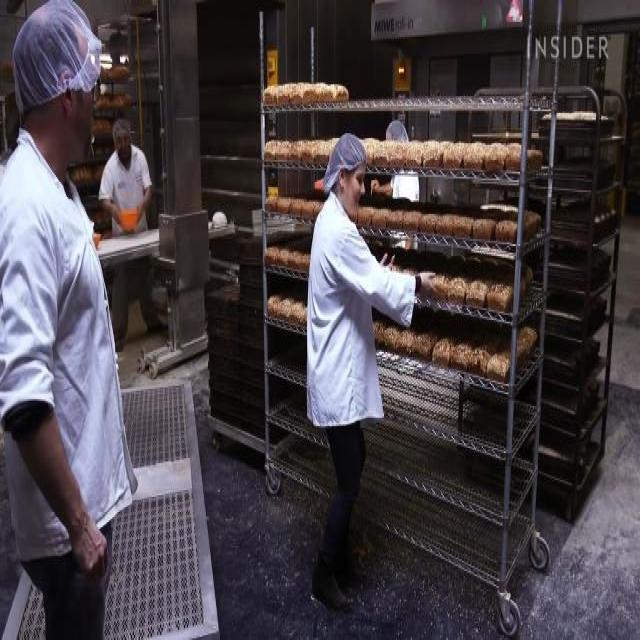hairnet: (12, 5, 94, 102), (325, 135, 365, 192), (384, 118, 409, 148), (113, 122, 134, 146)
